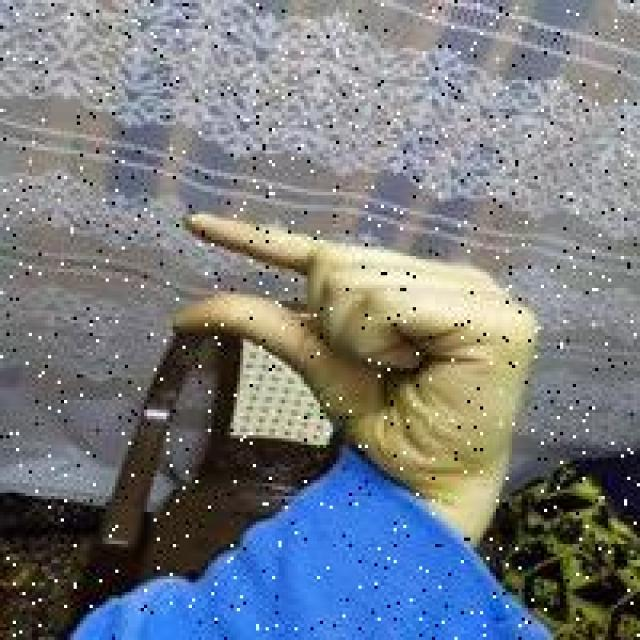G: (165, 210, 533, 440)
